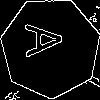A: (25, 22, 71, 58)
